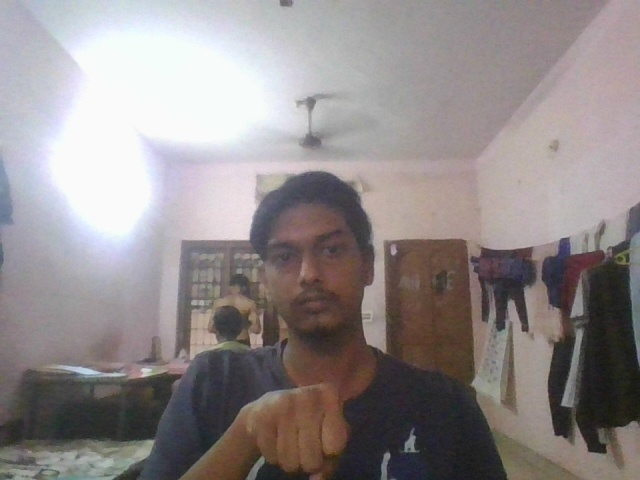yes: (229, 375, 357, 480)
